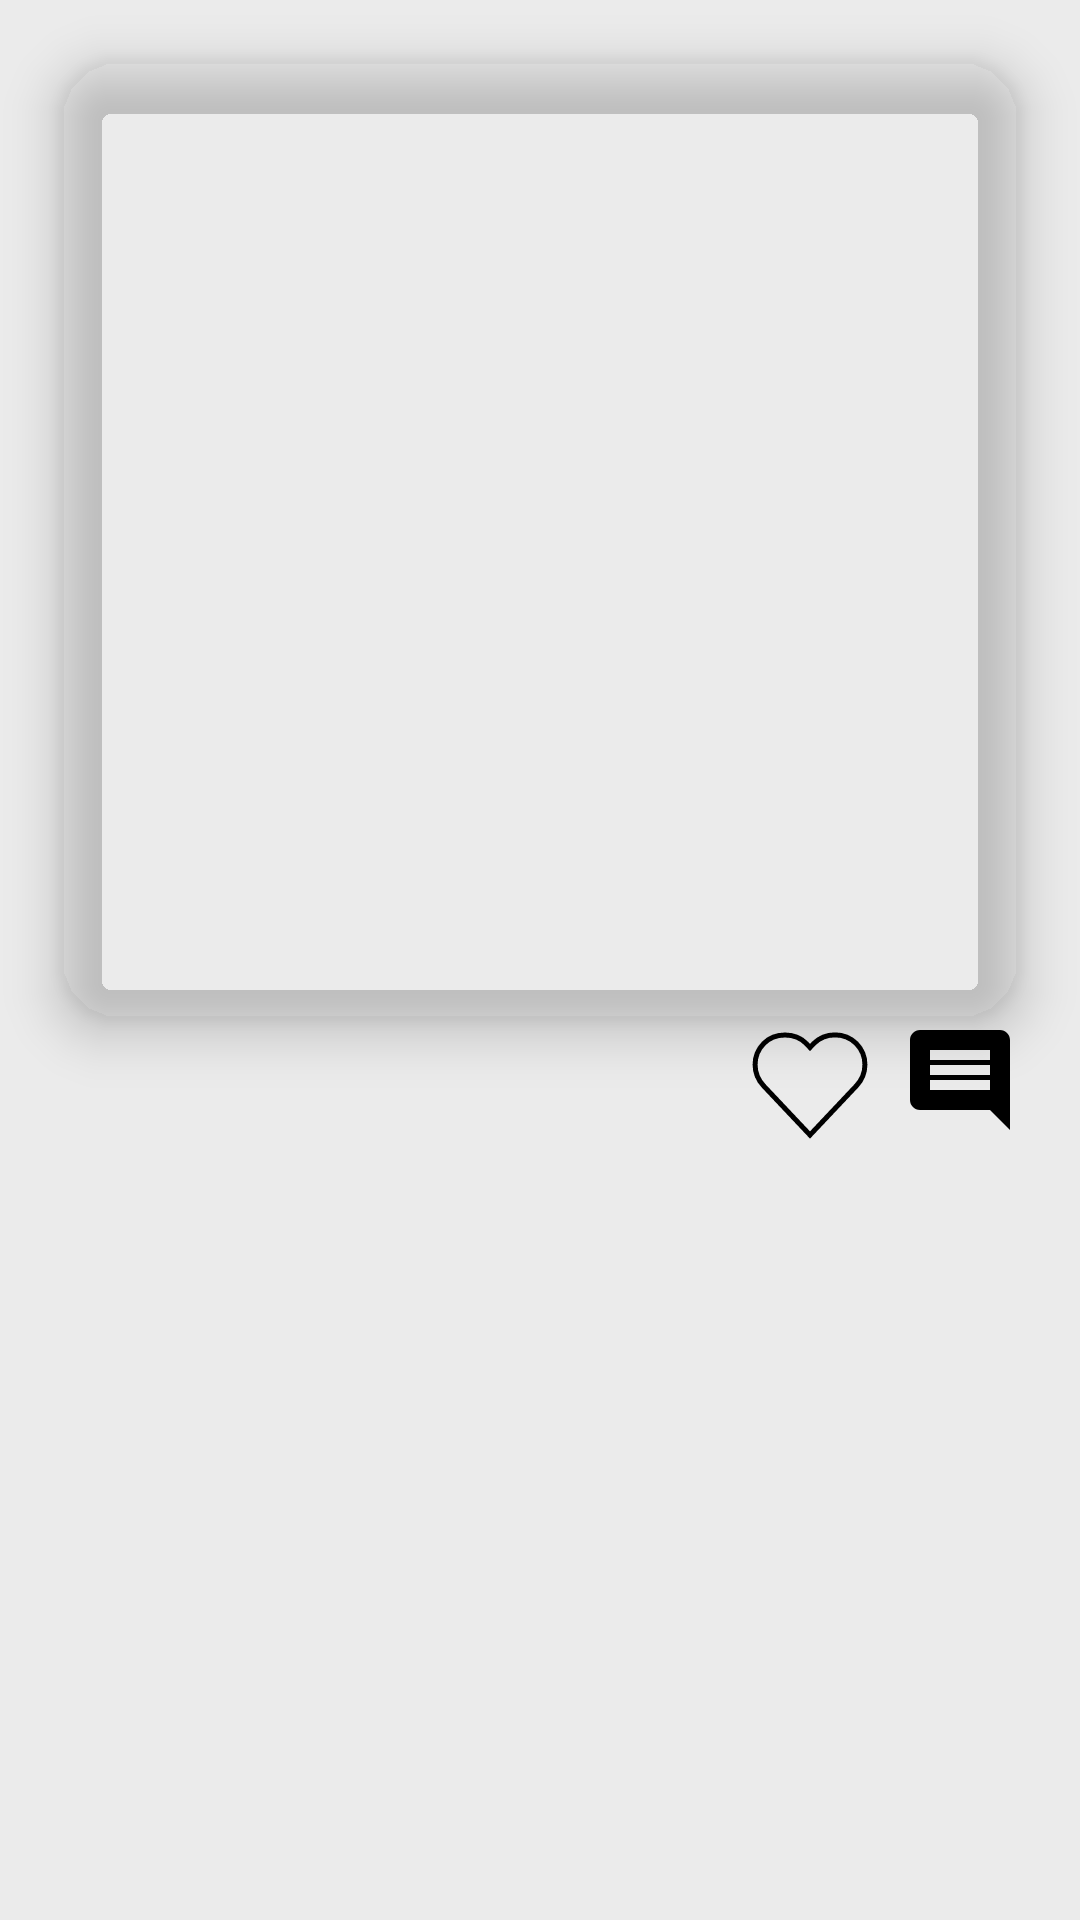

Locate icon controls on the screen. Image size 1080*1920, boxes as (x1, y1, x2, y2).
comment: (900, 1020, 1010, 1130)
unliked: (752, 1032, 868, 1139)
